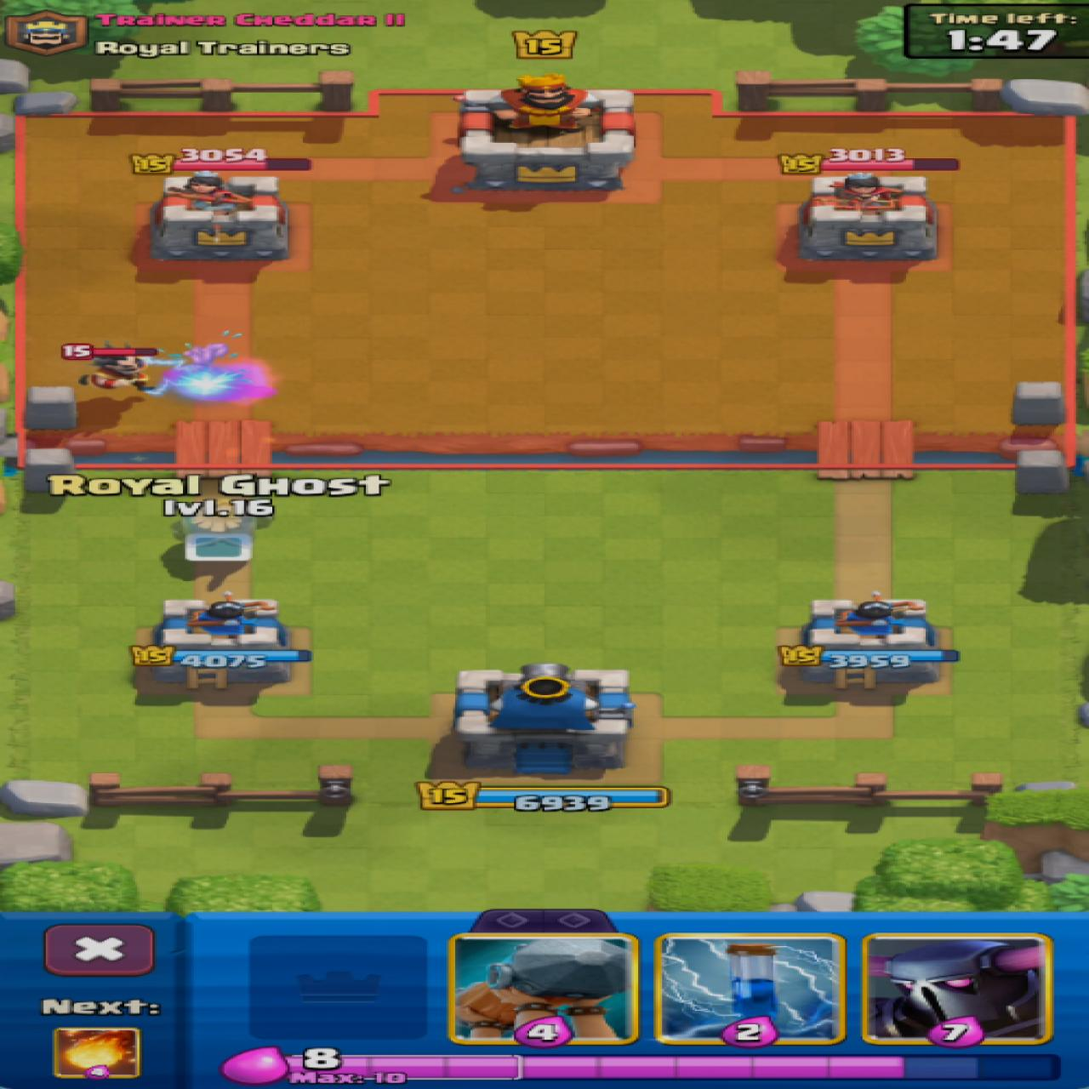Enemy-ElectroWizard: (81, 356, 148, 390)
Enemy-KingTower: (460, 76, 634, 192)
Enemy-PrincessTower: (799, 174, 937, 259), (152, 172, 287, 258)
